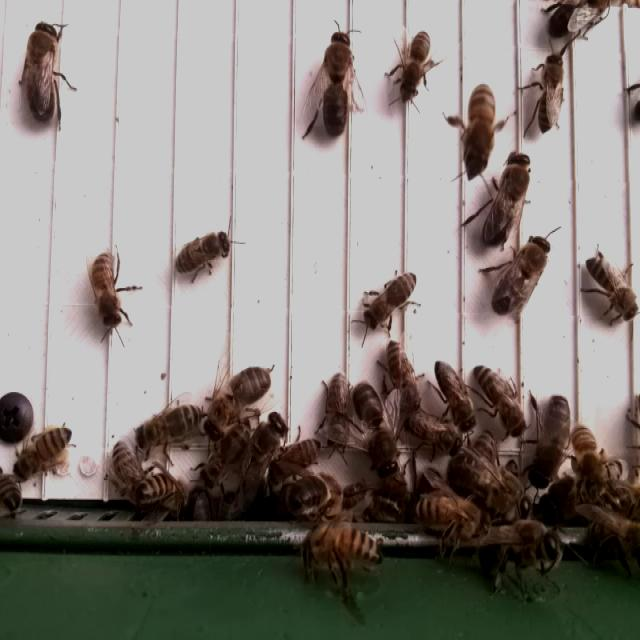Drone: (7, 17, 79, 122), (487, 230, 558, 324), (199, 361, 276, 446), (478, 144, 540, 249), (308, 22, 360, 143), (224, 410, 291, 496), (522, 396, 578, 495), (349, 383, 401, 472)
Worker: (472, 514, 569, 599), (354, 258, 424, 352), (169, 217, 246, 293), (580, 245, 640, 340), (293, 523, 384, 583), (465, 362, 529, 444), (83, 244, 134, 343), (517, 45, 572, 134), (127, 394, 199, 460), (276, 466, 350, 529), (16, 415, 75, 491), (387, 31, 441, 108), (194, 420, 252, 490), (314, 368, 355, 464), (578, 511, 640, 572), (419, 484, 485, 541), (400, 407, 465, 464), (428, 356, 475, 434), (264, 428, 322, 489), (485, 469, 537, 530)
